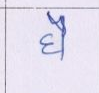ai_matra: (46, 10, 68, 40)
